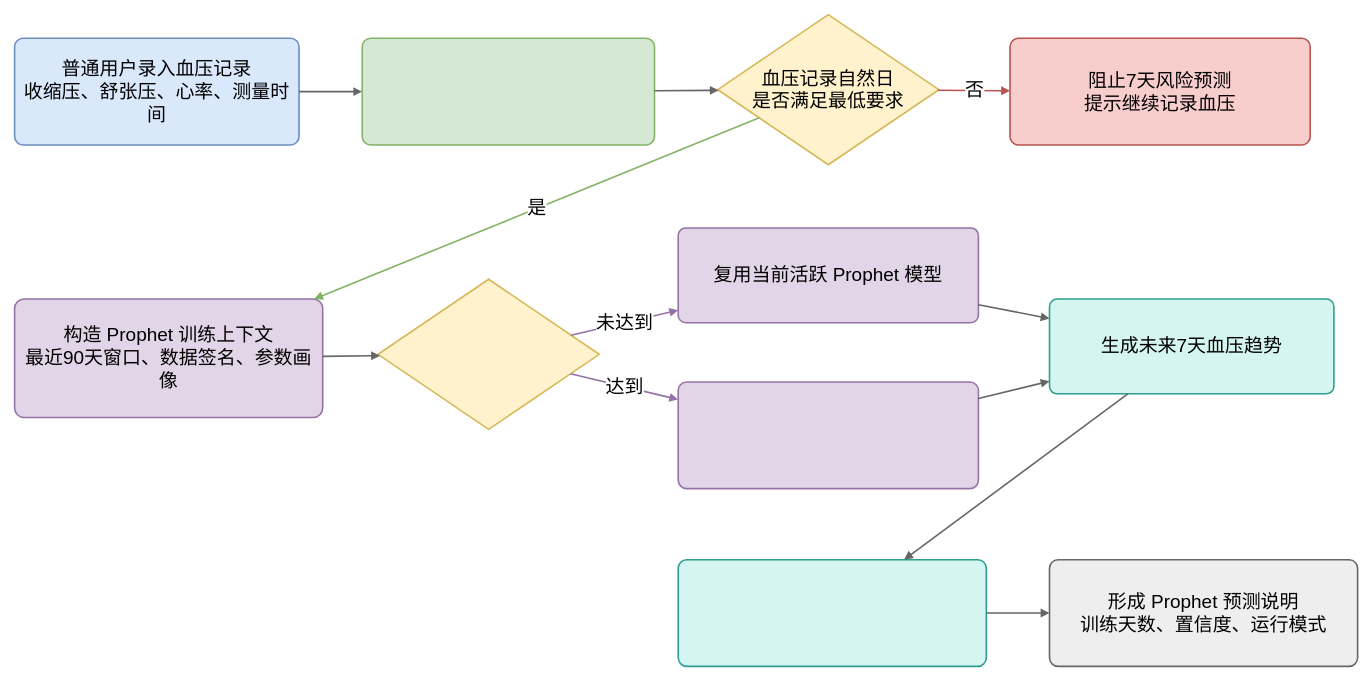
This 1371x680 diagram has some shape labels left out. Here are the shapes that lost their labels. From the top down, the centre of each, then its label:
(x=508, y=91): 按自然日聚合 生成每日收缩压与舒张压均值
(x=488, y=354): 新增自然日数 是否达到重训阈值
(x=828, y=435): 重新训练收缩压模型 重新训练舒张压模型
(x=832, y=613): 输出预测期血压序列 systolic、diastolic、date
